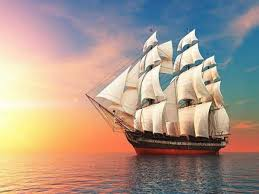tau_dansu: (91, 36, 235, 156)
